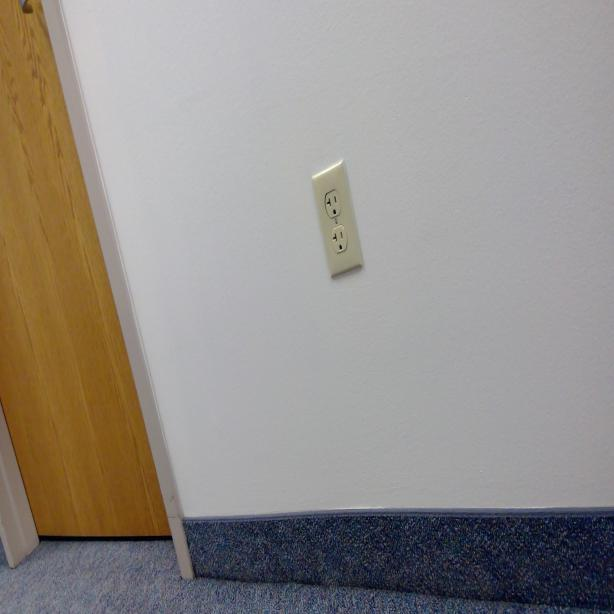typeb: (325, 190, 342, 218), (330, 228, 348, 252)
